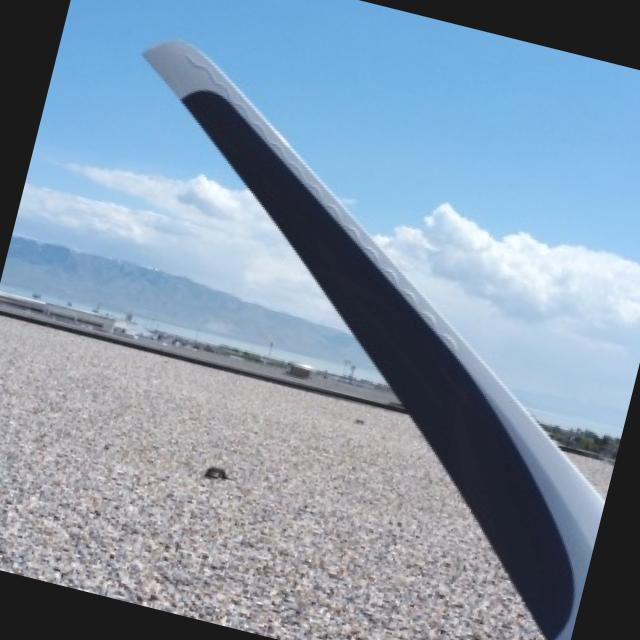healthy: (149, 38, 605, 640)
